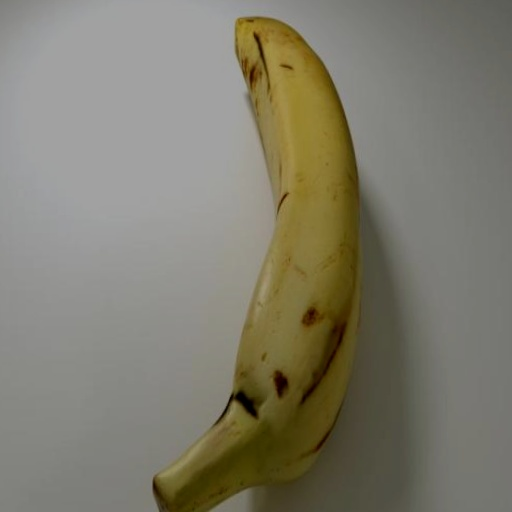fruit: (153, 18, 361, 512)
